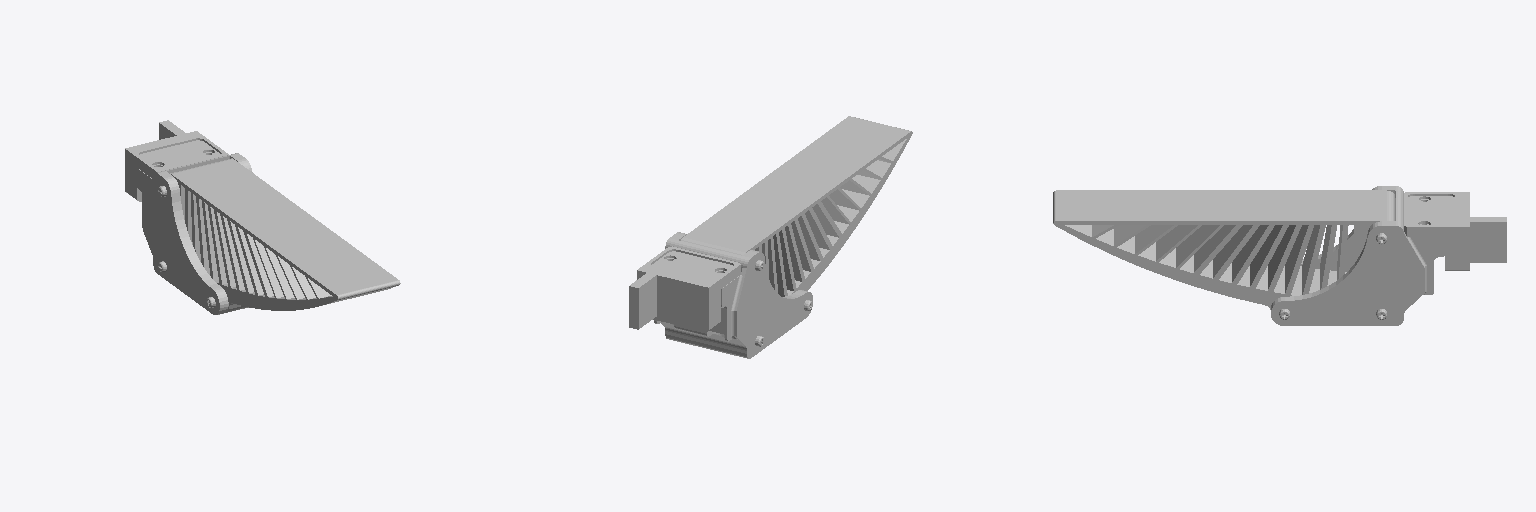
Rendered from tri_finger.obj.
3 views of the same model, side by side, from view 1: azimuth 30°, elevation 25°; view 2: azimuth 150°, elevation 25°; view 3: azimuth 270°, elevation 25° (orthographic).
Visible parts, largest first — view 1: one_piece_wide_grasp_finray_finger; view 2: one_piece_wide_grasp_finray_finger; view 3: one_piece_wide_grasp_finray_finger.
Boxes of the visible parts, <box> form: one_piece_wide_grasp_finray_finger: <box>125,120,400,314</box>; one_piece_wide_grasp_finray_finger: <box>629,116,912,358</box>; one_piece_wide_grasp_finray_finger: <box>1053,186,1506,325</box>.
Size of the model in its own units: 0.0376 by 0.04 by 0.1634.